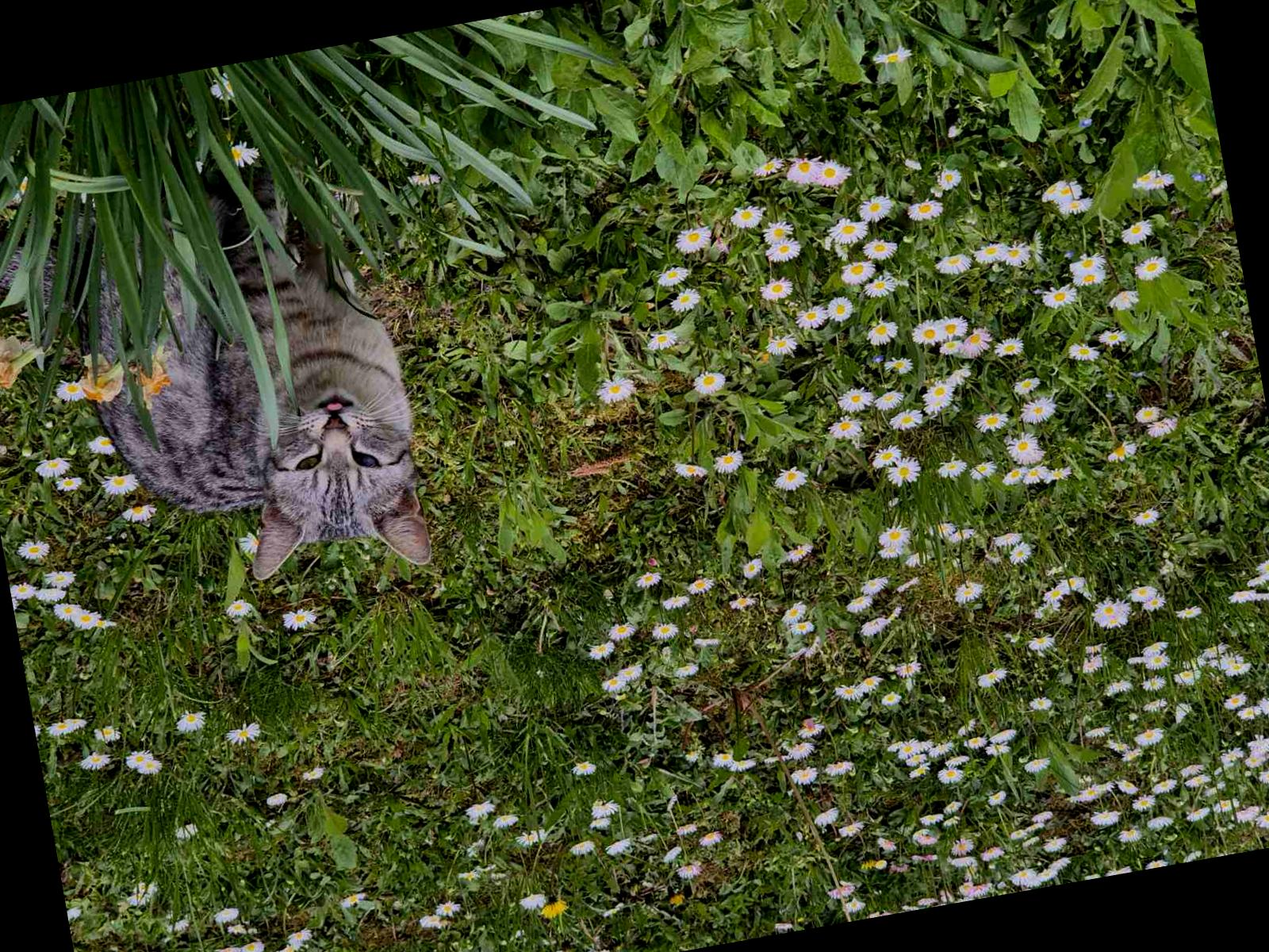macka: (0, 101, 434, 636)
